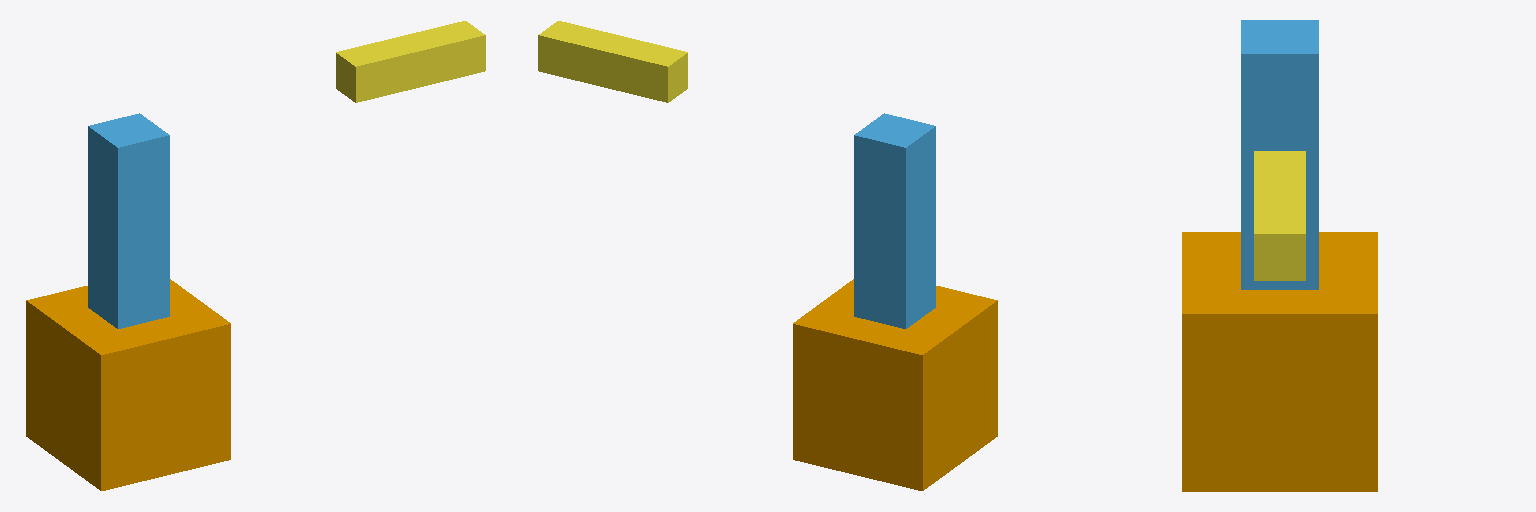
robot.urdf — dae_arm:
<?xml version="1.0"?>
<robot name="dae_arm">
  <link name="base_link">
    <visual><geometry><mesh filename="package://arm/meshes/base.stl"/></geometry></visual>
  </link>
  <link name="link1">
    <visual><geometry><mesh filename="package://arm/meshes/link1.stl"/></geometry></visual>
  </link>
  <link name="link2">
    <visual><geometry><mesh filename="package://arm/meshes/link2.dae"/></geometry></visual>
  </link>
  <link name="link3">
    <visual><geometry><mesh filename="link3.stl" scale="1 1 1"/></geometry></visual>
  </link>
  <link name="tool0"/>
  <joint name="j1" type="revolute">
    <parent link="base_link"/><child link="link1"/>
    <origin xyz="0 0 0.3" rpy="0 0 0"/><axis xyz="0 0 1"/>
    <limit lower="-1.5707963267948966" upper="1.5707963267948966" velocity="1.5" effort="100"/>
  </joint>
  <joint name="j2" type="revolute">
    <parent link="link1"/><child link="link2"/>
    <origin xyz="0 0 0.4" rpy="0 0 0"/><axis xyz="0 1 0"/>
    <limit lower="-2.0" upper="2.0" velocity="1.2" effort="100"/>
  </joint>
  <joint name="j3" type="revolute">
    <parent link="link2"/><child link="link3"/>
    <origin xyz="0.5 0 0" rpy="0 0 0"/><axis xyz="0 1 0"/>
    <limit lower="-2.5" upper="2.5" velocity="2.0" effort="100"/>
  </joint>
  <joint name="tool_joint" type="fixed">
    <parent link="link3"/><child link="tool0"/>
    <origin xyz="0.3 0 0" rpy="0 0 0"/>
  </joint>
</robot>

--- Render facts (derived) ---
Views: 3 orthographic renders of the robot side by side, from view 1: azimuth 30°, elevation 25°; view 2: azimuth 150°, elevation 25°; view 3: azimuth 270°, elevation 25°.
Model dae_arm with 5 links and 4 joints (3 revolute, 1 fixed), rooted at base_link, posed every joint at zero.
Visible links, largest first — view 1: base_link, link1, link3; view 2: base_link, link1, link3; view 3: base_link, link1, link3.
Boxes of the visible links, x1,y1,x2,y2 form: base_link: [26, 279, 230, 490]; link1: [88, 113, 169, 328]; link3: [336, 21, 485, 102]; base_link: [793, 279, 997, 490]; link1: [854, 113, 935, 328]; link3: [538, 21, 687, 102]; base_link: [1182, 232, 1377, 491]; link1: [1241, 20, 1318, 289]; link3: [1254, 151, 1305, 280].
Size in the robot's own frame: 0.95 by 0.3 by 0.74 metres.
3 mesh visuals loaded from 4 distinct referenced files (3 ASCII STL); not drawn: 1 (file found but could not be loaded).
